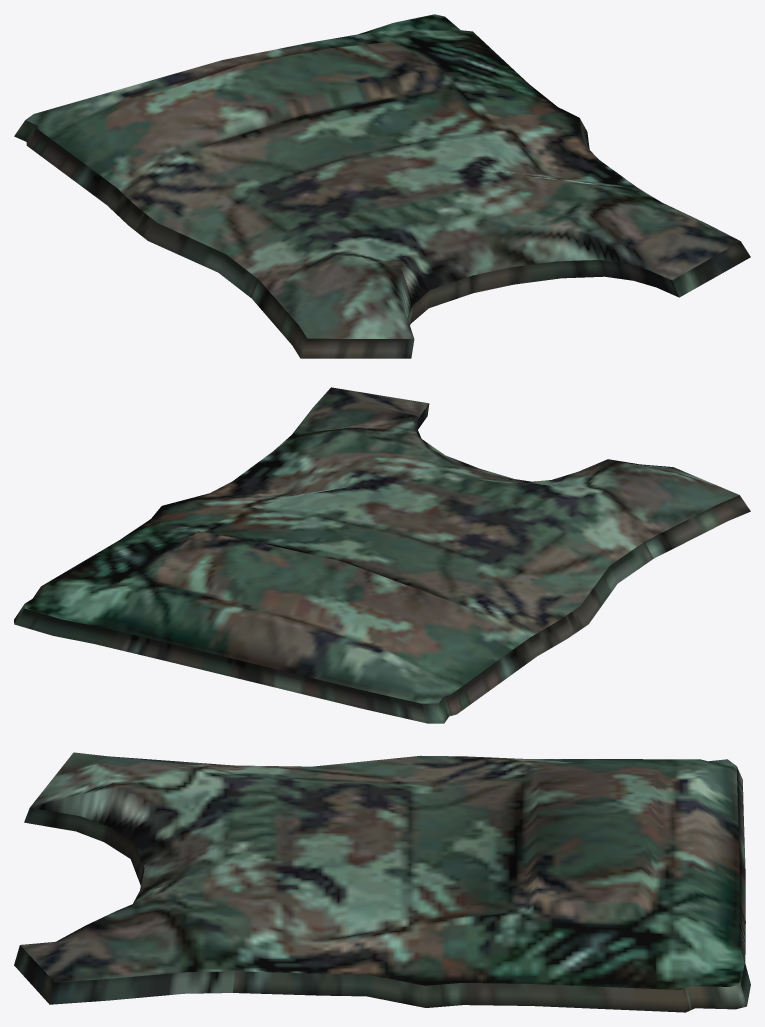
The model's file is Pickup_VestsB.glb.
3 renders of one model, top to bottom at view 1: azimuth 30°, elevation 25°; view 2: azimuth 150°, elevation 25°; view 3: azimuth 270°, elevation 25°, orthographic. The views are drawn at different scales.
Visible parts, largest first — view 1: pk_vests_b; view 2: pk_vests_b; view 3: pk_vests_b.
Part boxes in pixels (box(x1,y1,x2,y2)): pk_vests_b: box(14, 14, 750, 358); pk_vests_b: box(14, 387, 750, 723); pk_vests_b: box(14, 752, 750, 1012).
Size of the model in its own units: 0.662 by 0.0857 by 0.8343.
1 material, 1 textured.
